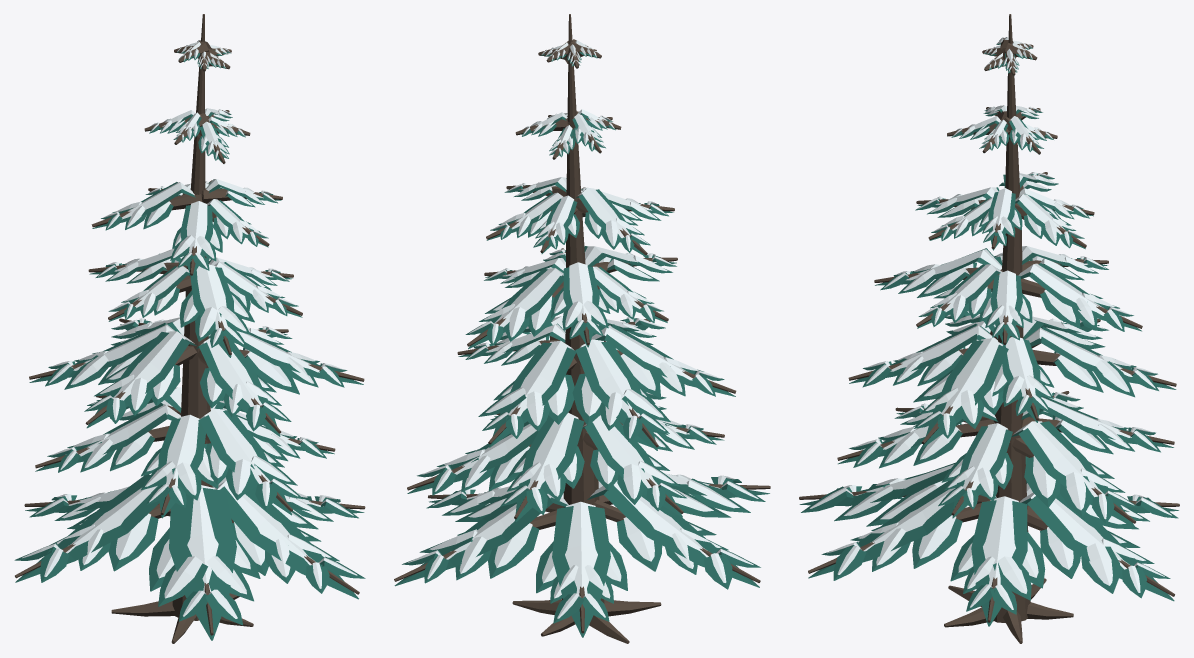
File: TREE_02_PineMediumSnowy.glb
The picture shows the model from 3 angles, left to right: view 1: azimuth 30°, elevation 25°; view 2: azimuth 150°, elevation 25°; view 3: azimuth 270°, elevation 25°; orthographic projection.
Parts seen in each view (by area): view 1: TREE_02_PineMediumSnowy; view 2: TREE_02_PineMediumSnowy; view 3: TREE_02_PineMediumSnowy.
Part boxes in pixels (x1,y1,x2,y2): TREE_02_PineMediumSnowy: [14, 14, 365, 643]; TREE_02_PineMediumSnowy: [394, 14, 770, 643]; TREE_02_PineMediumSnowy: [799, 14, 1179, 643].
Size of the model in its own units: 4.42 by 7.43 by 4.22.
